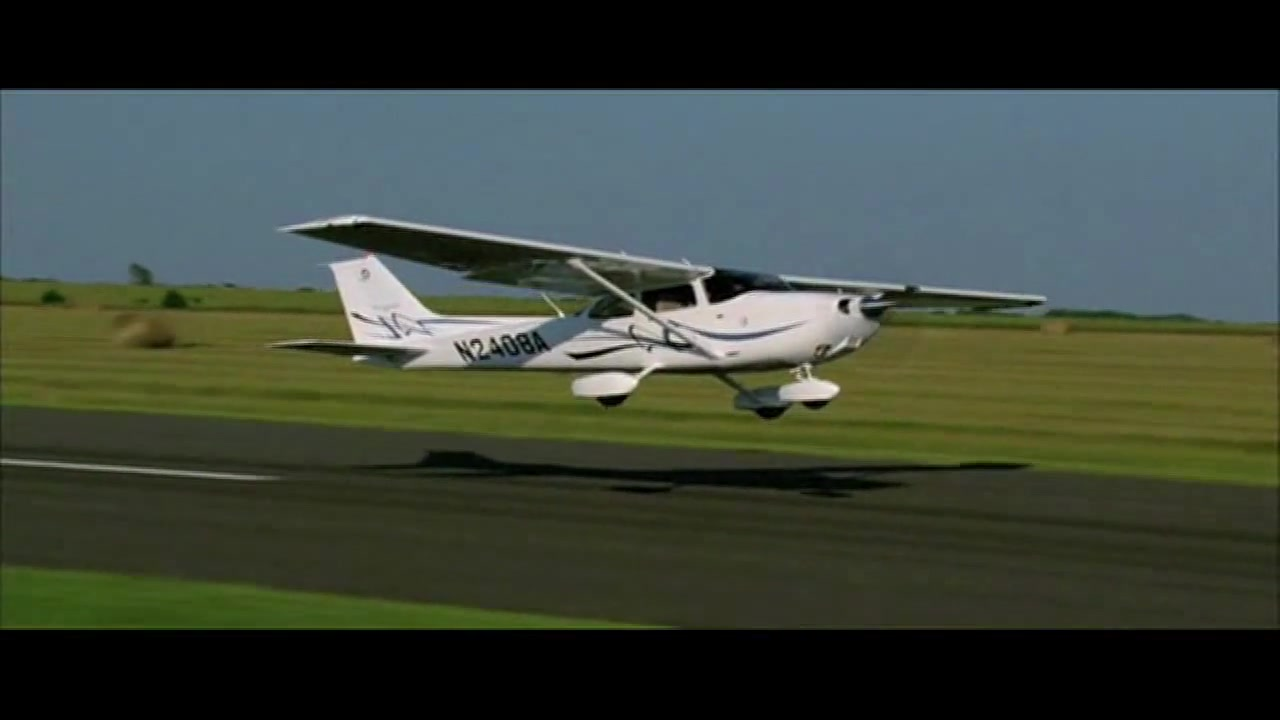aeroplane: (266, 217, 1052, 423)
